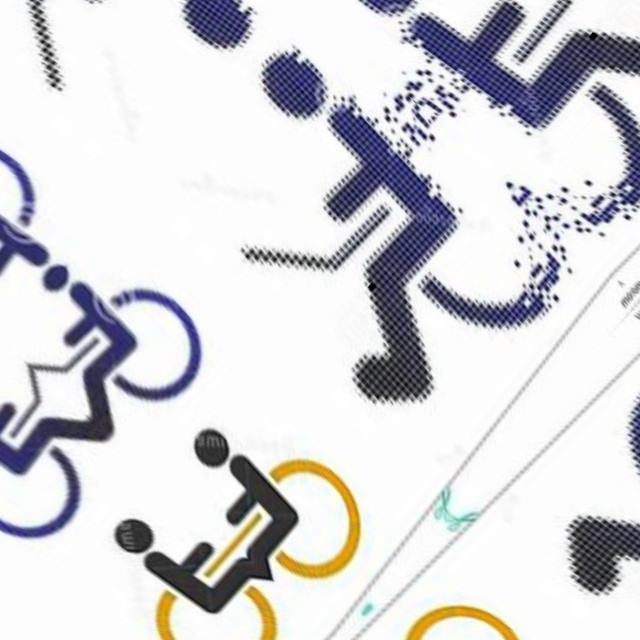ISA: (152, 369, 411, 621), (0, 218, 242, 458), (59, 474, 318, 640), (0, 340, 133, 580), (0, 100, 108, 340), (362, 554, 621, 640)
